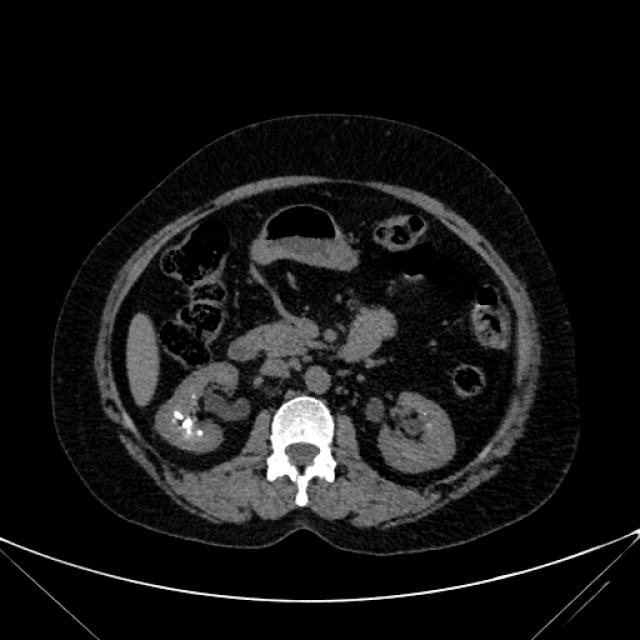kidney: (152, 359, 255, 461), (367, 385, 458, 482)
stone: (180, 414, 197, 434), (168, 404, 184, 422), (198, 424, 206, 442)
